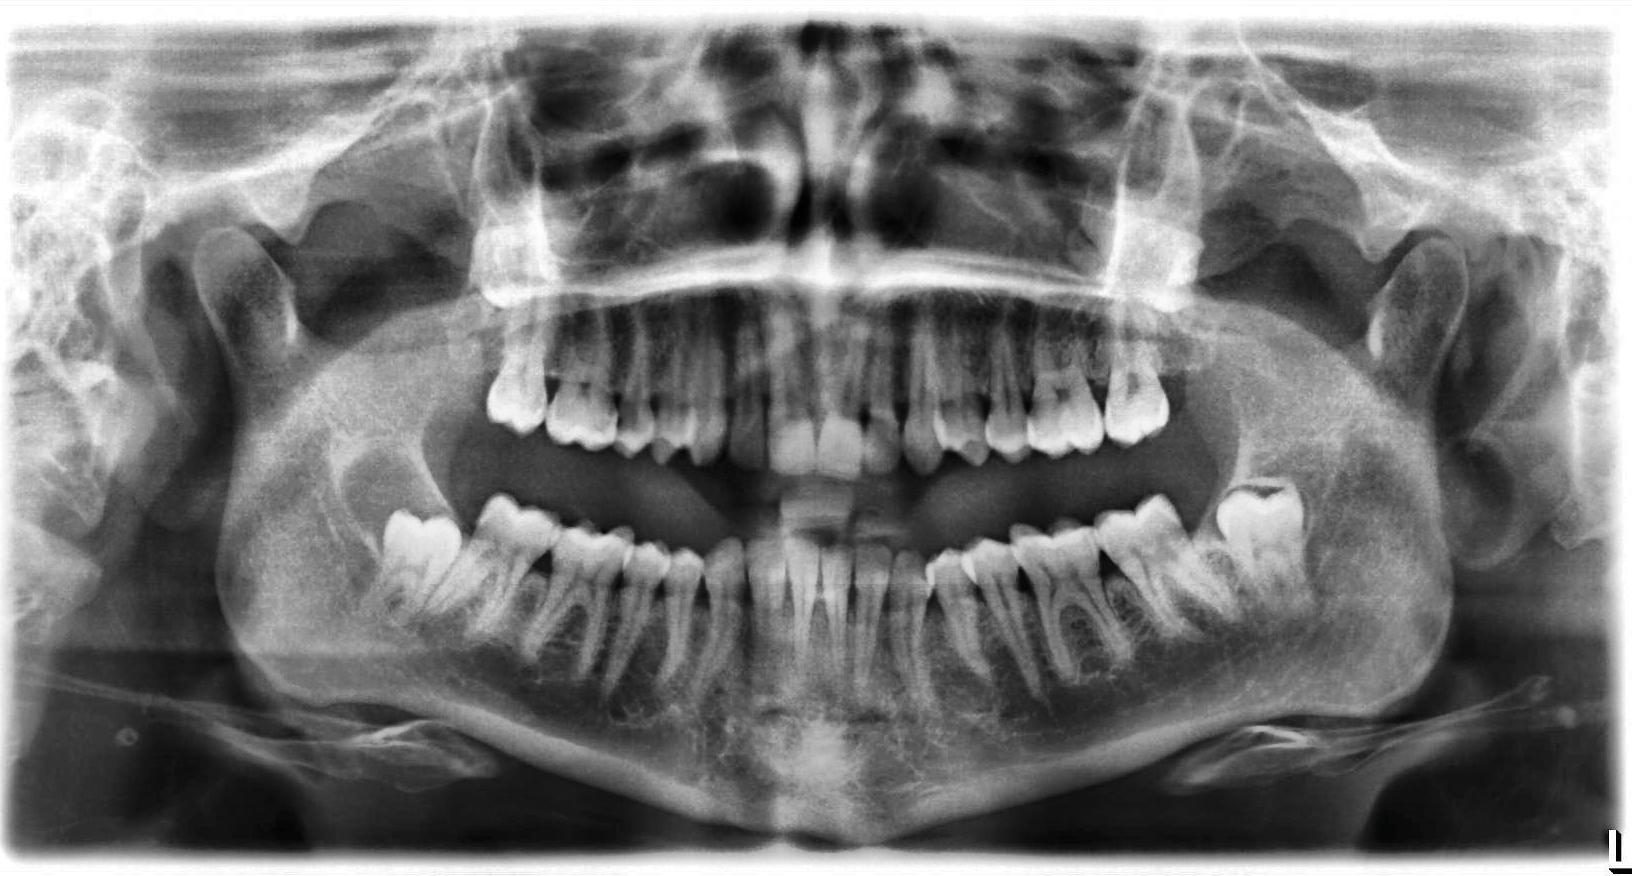enflamatuar: (336, 445, 462, 559)
